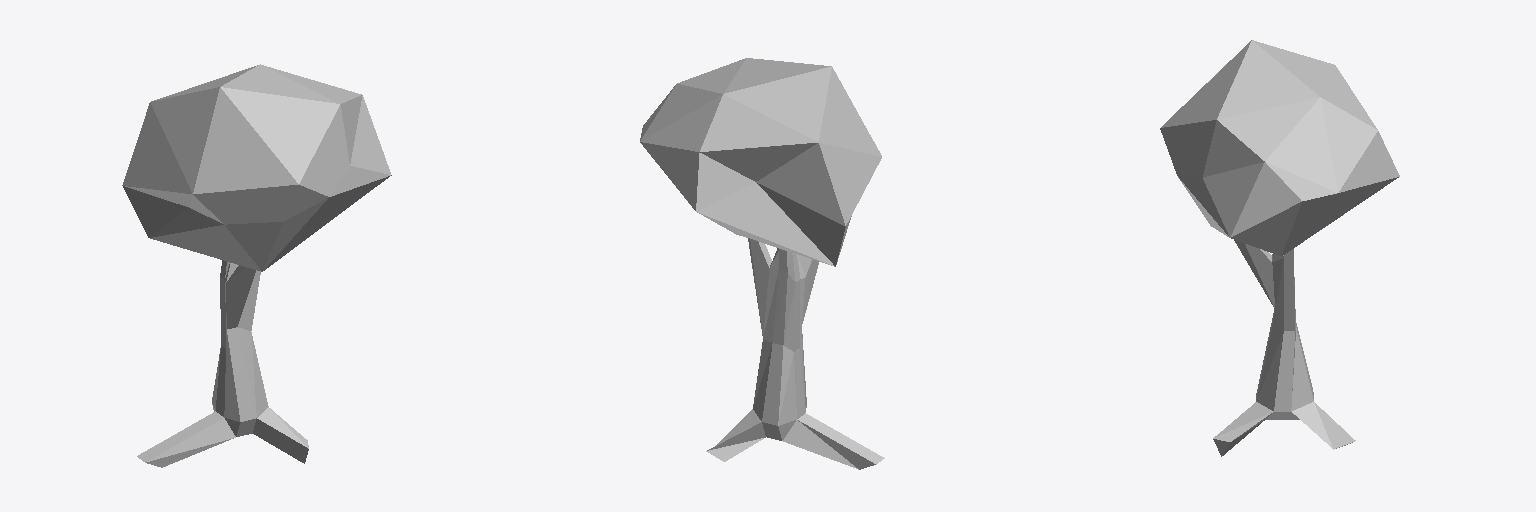
Rendered from tree.obj.
The picture shows the model from 3 angles: view 1: azimuth 30°, elevation 25°; view 2: azimuth 150°, elevation 25°; view 3: azimuth 270°, elevation 25°; orthographic projection.
Parts seen in each view (by area): view 1: pPlatonic1, pCube1; view 2: pPlatonic1, pCube1; view 3: pPlatonic1, pCube1.
Part boxes in pixels (x1,y1,x2,y2): pPlatonic1: (122, 64, 391, 271); pCube1: (137, 260, 308, 467); pPlatonic1: (640, 58, 881, 266); pCube1: (706, 238, 884, 469); pPlatonic1: (1160, 40, 1399, 256); pCube1: (1213, 240, 1355, 456).
Size of the model in its own units: 31.42 by 50.46 by 28.67.